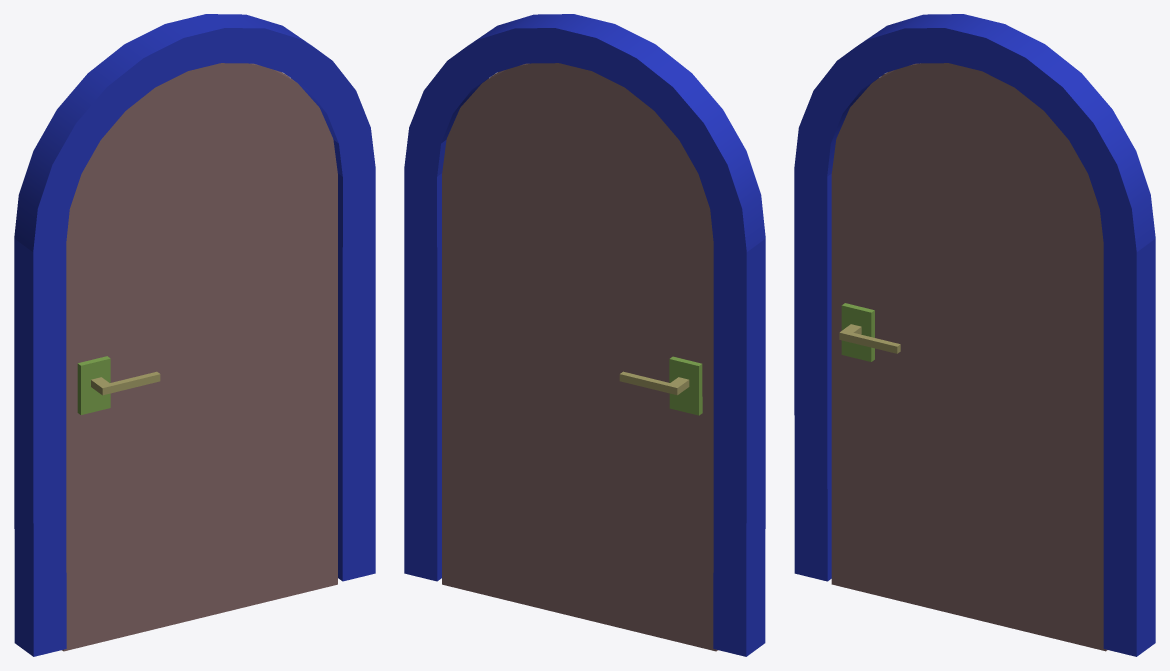
File: Door.fbx
3 renders of one model, left to right at view 1: azimuth 30°, elevation 25°; view 2: azimuth 150°, elevation 25°; view 3: azimuth 330°, elevation 25°, orthographic.
Visible parts, largest first — view 1: pCube4, pCube7, pCube5, pasted__pCube5; view 2: pCube4, pCube7, pCube6, pasted__pCube6; view 3: pCube4, pCube7, pCube5, pasted__pCube5.
Boxes of the visible parts, x1,y1,x2,y2 form: pCube4: (62, 63, 337, 651); pCube7: (14, 14, 375, 656); pCube5: (77, 356, 110, 414); pasted__pCube5: (91, 371, 160, 395); pCube4: (442, 63, 717, 651); pCube7: (404, 14, 765, 656); pCube6: (669, 356, 702, 415); pasted__pCube6: (619, 371, 689, 395); pCube4: (831, 63, 1107, 651); pCube7: (794, 14, 1155, 656); pCube5: (841, 303, 874, 361); pasted__pCube5: (839, 324, 900, 353).
Size of the model in its own units: 1.41 by 2.32 by 0.3092.
